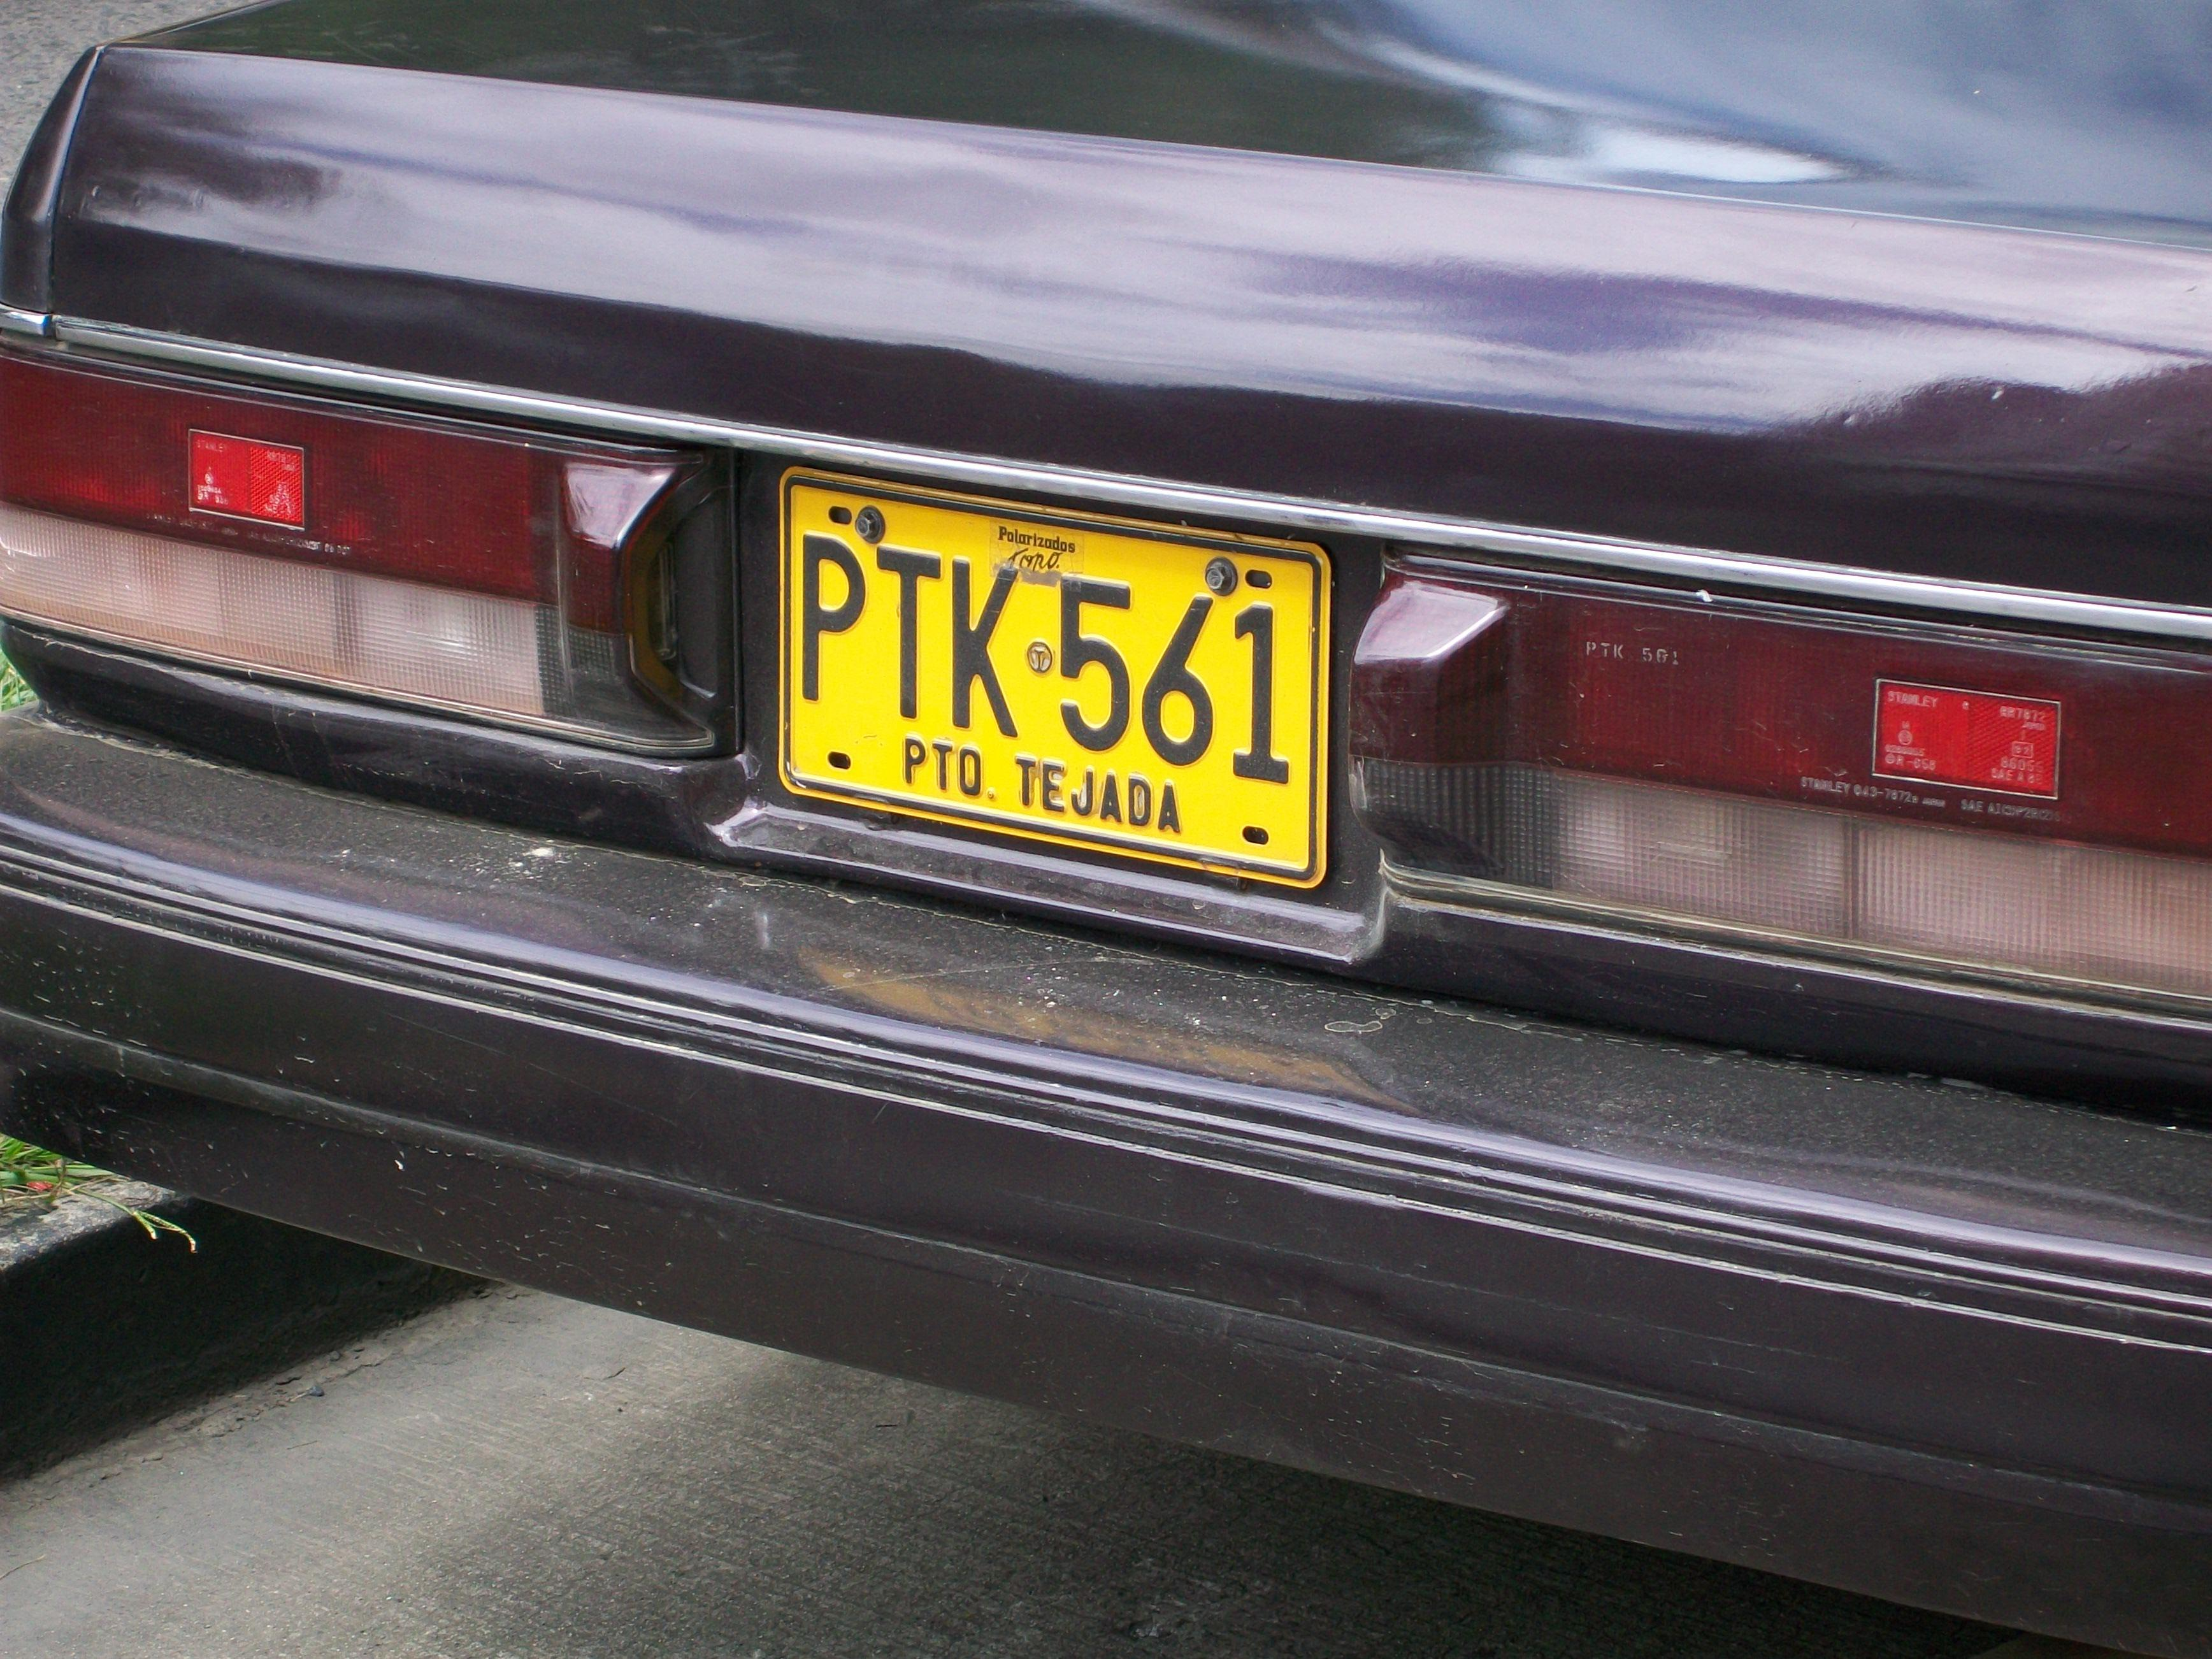placas: (772, 449, 1332, 898)
